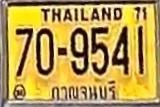0: (36, 27, 54, 74)
1: (138, 26, 144, 74)
4: (112, 25, 128, 74)
5: (90, 26, 108, 74)
7: (15, 27, 32, 76)
9: (70, 27, 88, 74)
KRI: (48, 78, 120, 103)
